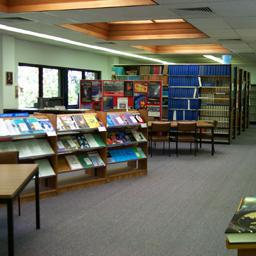Ventana: (21, 64, 63, 104)
